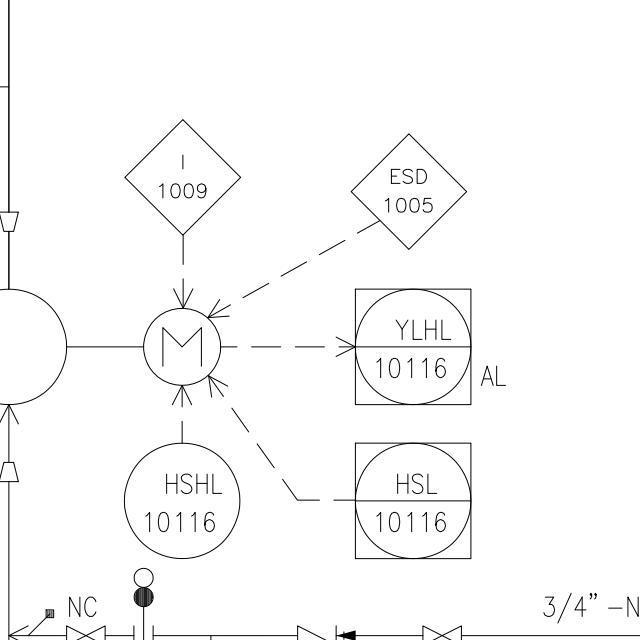M: (138, 308, 226, 386)
SP: (0, 202, 24, 240), (0, 453, 21, 493)
